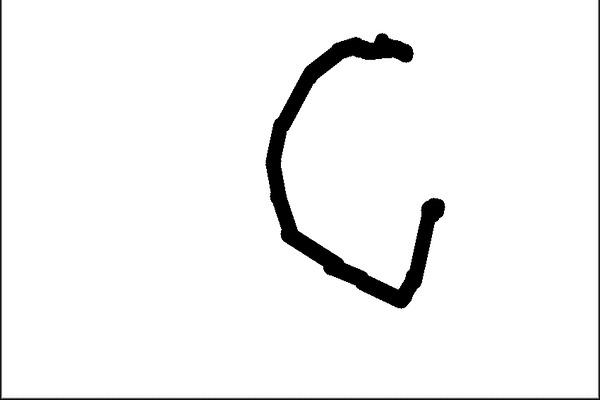C: (260, 28, 453, 313)
